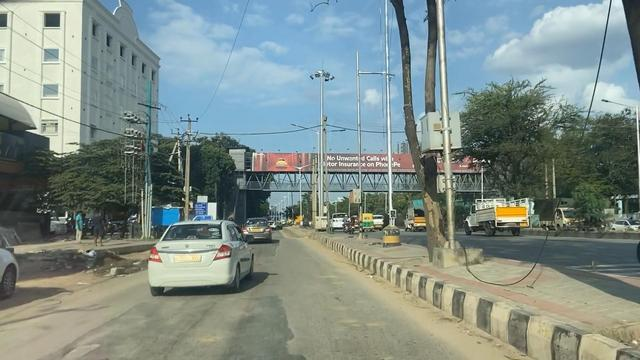LMV: (149, 219, 250, 297), (241, 215, 274, 242)
UnsurfacedRoad: (106, 300, 307, 360)
